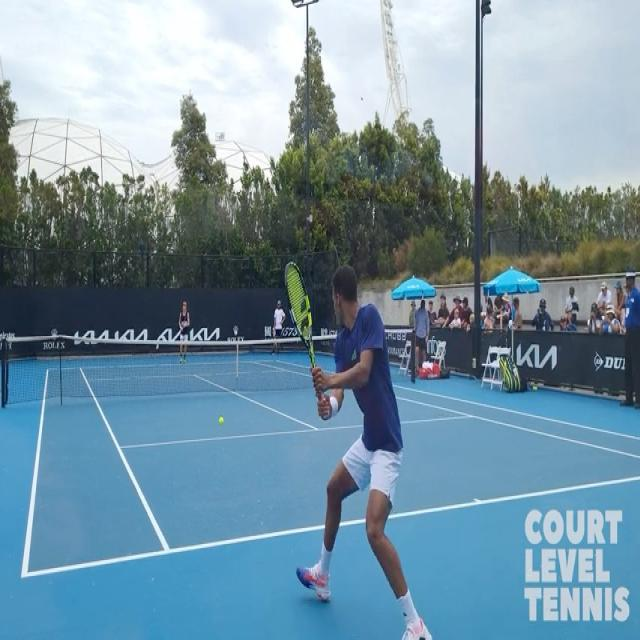backhand-ready: (277, 250, 434, 640)
